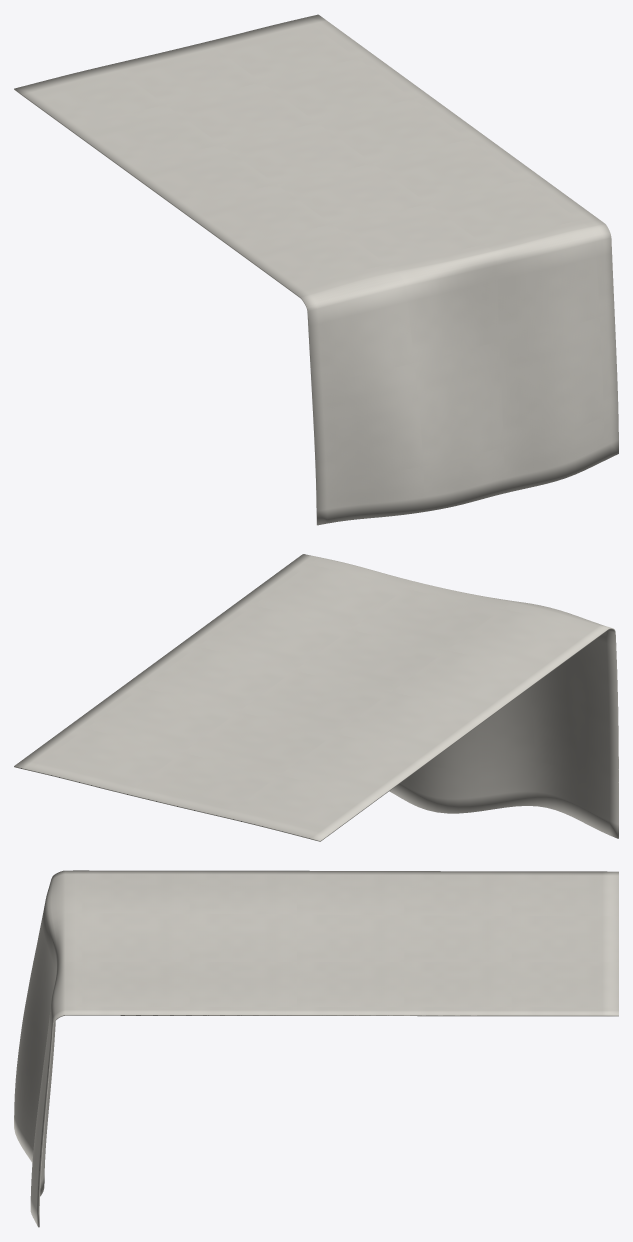
File: cloth.glb
3 views of the same model, one above another, from view 1: azimuth 30°, elevation 25°; view 2: azimuth 150°, elevation 25°; view 3: azimuth 270°, elevation 25° (orthographic). The views are drawn at different scales.
Parts seen in each view (by area): view 1: asset-foundation-v1/cloth; view 2: asset-foundation-v1/cloth; view 3: asset-foundation-v1/cloth.
Part boxes in pixels (x1,y1,x2,y2): asset-foundation-v1/cloth: (14, 14, 618, 525); asset-foundation-v1/cloth: (14, 554, 618, 841); asset-foundation-v1/cloth: (14, 870, 618, 1227).
Size of the model in its own units: 0.5702 by 0.4259 by 1.01.
1 material, 1 textured.
